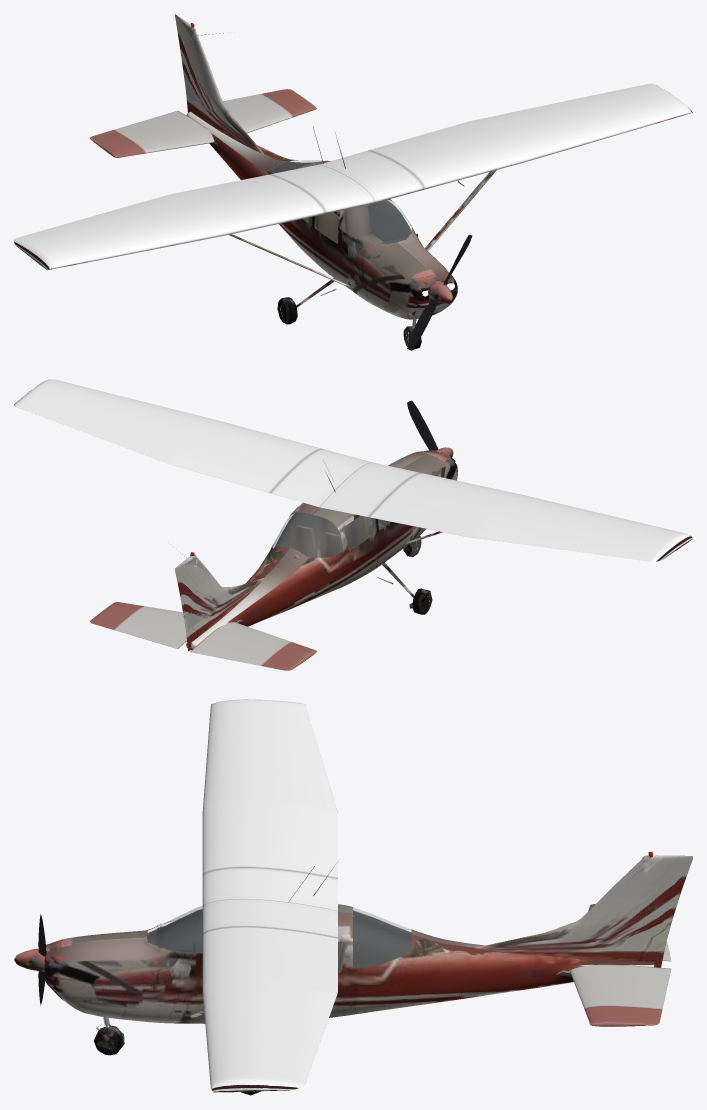
3 renders of one model, top to bottom at view 1: azimuth 30°, elevation 25°; view 2: azimuth 150°, elevation 25°; view 3: azimuth 270°, elevation 25°, orthographic. The views are drawn at different scales.
Visible parts, largest first — view 1: object 1, object 2, fuselage_glass; view 2: object 1, object 2, fuselage_glass; view 3: object 1, object 2, fuselage_glass.
Part boxes in pixels (left/top/right/bottom): object 1: left=14, top=14, right=692, bottom=319; object 2: left=50, top=23, right=472, bottom=350; fuselage_glass: left=272, top=160, right=411, bottom=243; object 1: left=14, top=379, right=692, bottom=670; object 2: left=182, top=400, right=690, bottom=614; fuselage_glass: left=272, top=513, right=389, bottom=557; object 1: left=14, top=699, right=692, bottom=1092; object 2: left=38, top=704, right=652, bottom=1095; fuselage_glass: left=147, top=906, right=410, bottom=973.
Bounding box in the file's own units: 11.02 × 2.68 × 8.17.
Materials: 18 (2 with a texture image).
